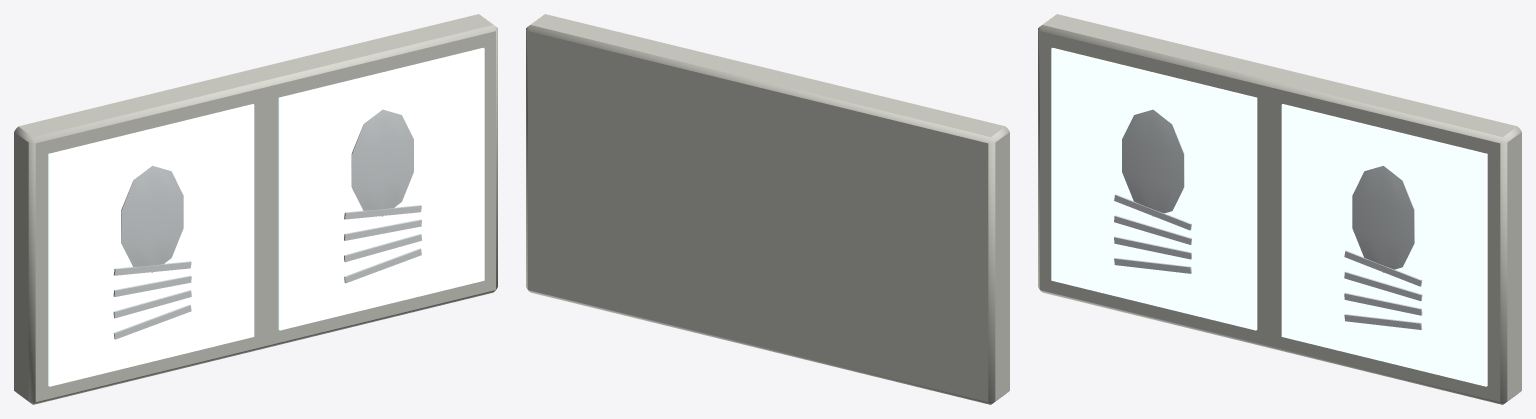
Rendered from xray_viewer.glb.
3 views of the same model, side by side, from view 1: azimuth 30°, elevation 25°; view 2: azimuth 150°, elevation 25°; view 3: azimuth 330°, elevation 25° (orthographic).
Parts seen in each view (by area): view 1: XrayViewer; view 2: XrayViewer; view 3: XrayViewer.
Boxes of the visible parts, bbox=[...] form: XrayViewer: bbox=[14, 14, 497, 404]; XrayViewer: bbox=[526, 14, 1009, 404]; XrayViewer: bbox=[1038, 14, 1521, 404].
Size of the model in its own units: 1.1 by 0.6 by 0.0908.
